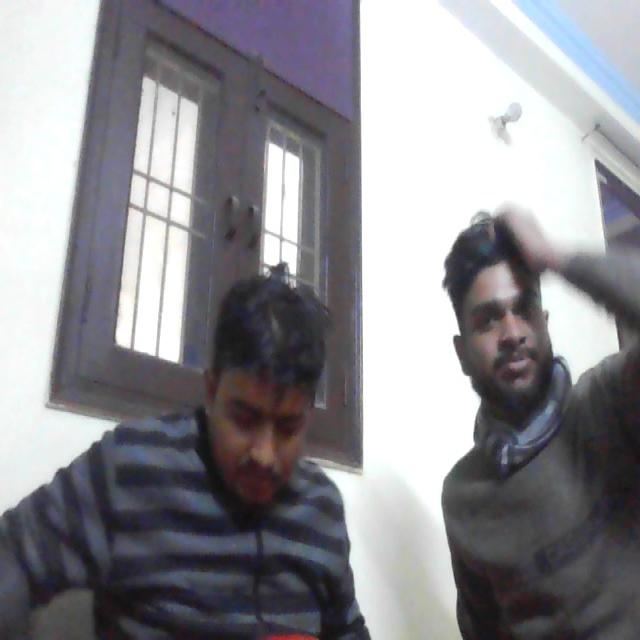real: (201, 291, 322, 518), (457, 211, 563, 412)
